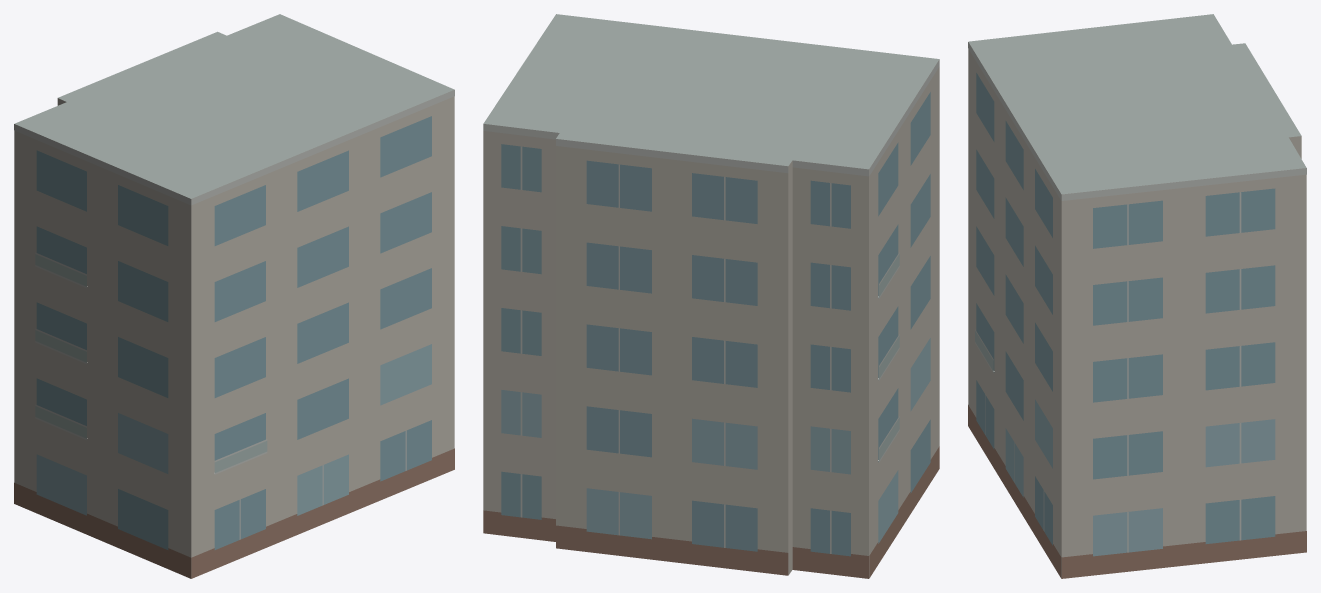
Rendered from survey-upis-32595234.glb.
The picture shows the model from 3 angles, left to right: view 1: azimuth 30°, elevation 25°; view 2: azimuth 150°, elevation 25°; view 3: azimuth 270°, elevation 25°; orthographic projection. The views are drawn at different scales.
Parts seen in each view (by area): view 1: survey-upis-32595234.tmp; view 2: survey-upis-32595234.tmp; view 3: survey-upis-32595234.tmp.
Part boxes in pixels (<box>): survey-upis-32595234.tmp: <box>14,14,454,578</box>; survey-upis-32595234.tmp: <box>483,14,939,578</box>; survey-upis-32595234.tmp: <box>968,14,1306,578</box>.
Size of the model in its own units: 14.31 by 14.2 by 11.35.
